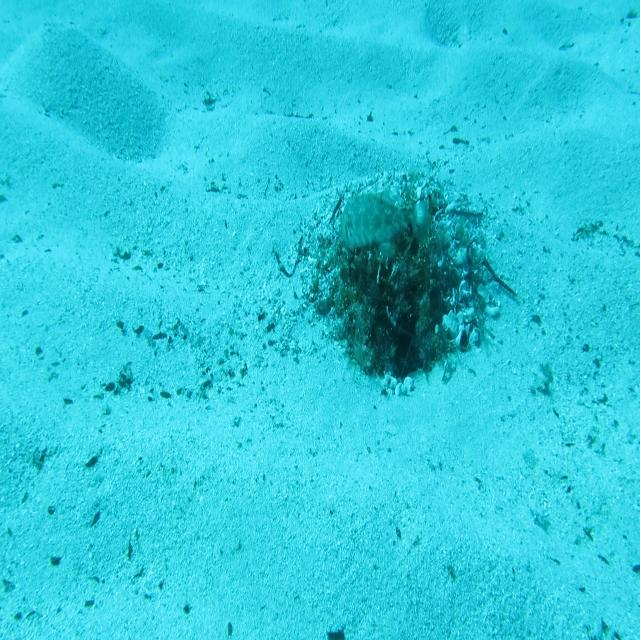NIP_IN: (337, 183, 434, 260)
core_nest: (367, 238, 429, 276)
nest: (294, 163, 504, 414)
